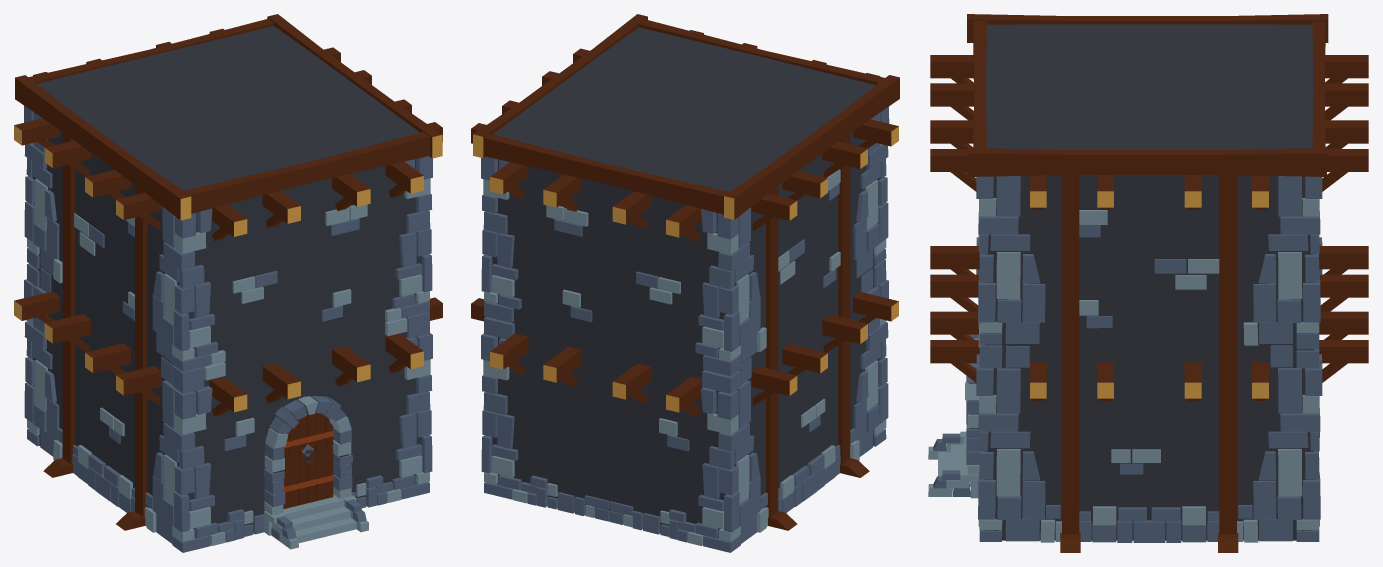
The model's file is Village_House_3.glb.
3 renders of one model, left to right at view 1: azimuth 30°, elevation 25°; view 2: azimuth 150°, elevation 25°; view 3: azimuth 270°, elevation 25°, orthographic. The views are drawn at different scales.
Parts seen in each view (by area): view 1: House_3; view 2: House_3; view 3: House_3.
Boxes of the visible parts, <box> form: House_3: <box>14,14,442,552</box>; House_3: <box>471,14,899,552</box>; House_3: <box>928,14,1368,552</box>.
Bounding box in the file's own units: 194 × 209 × 212.
